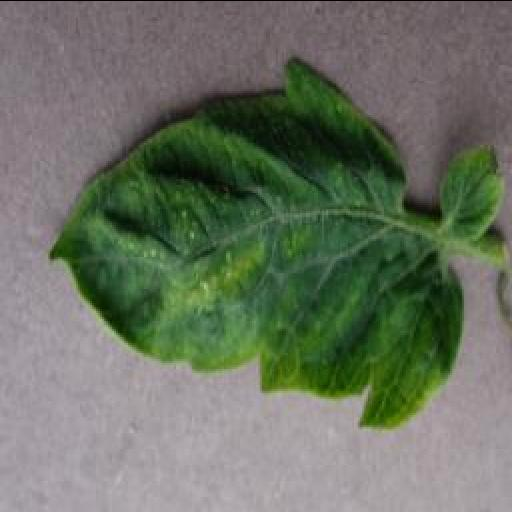disease_tomato: (51, 53, 461, 425)
